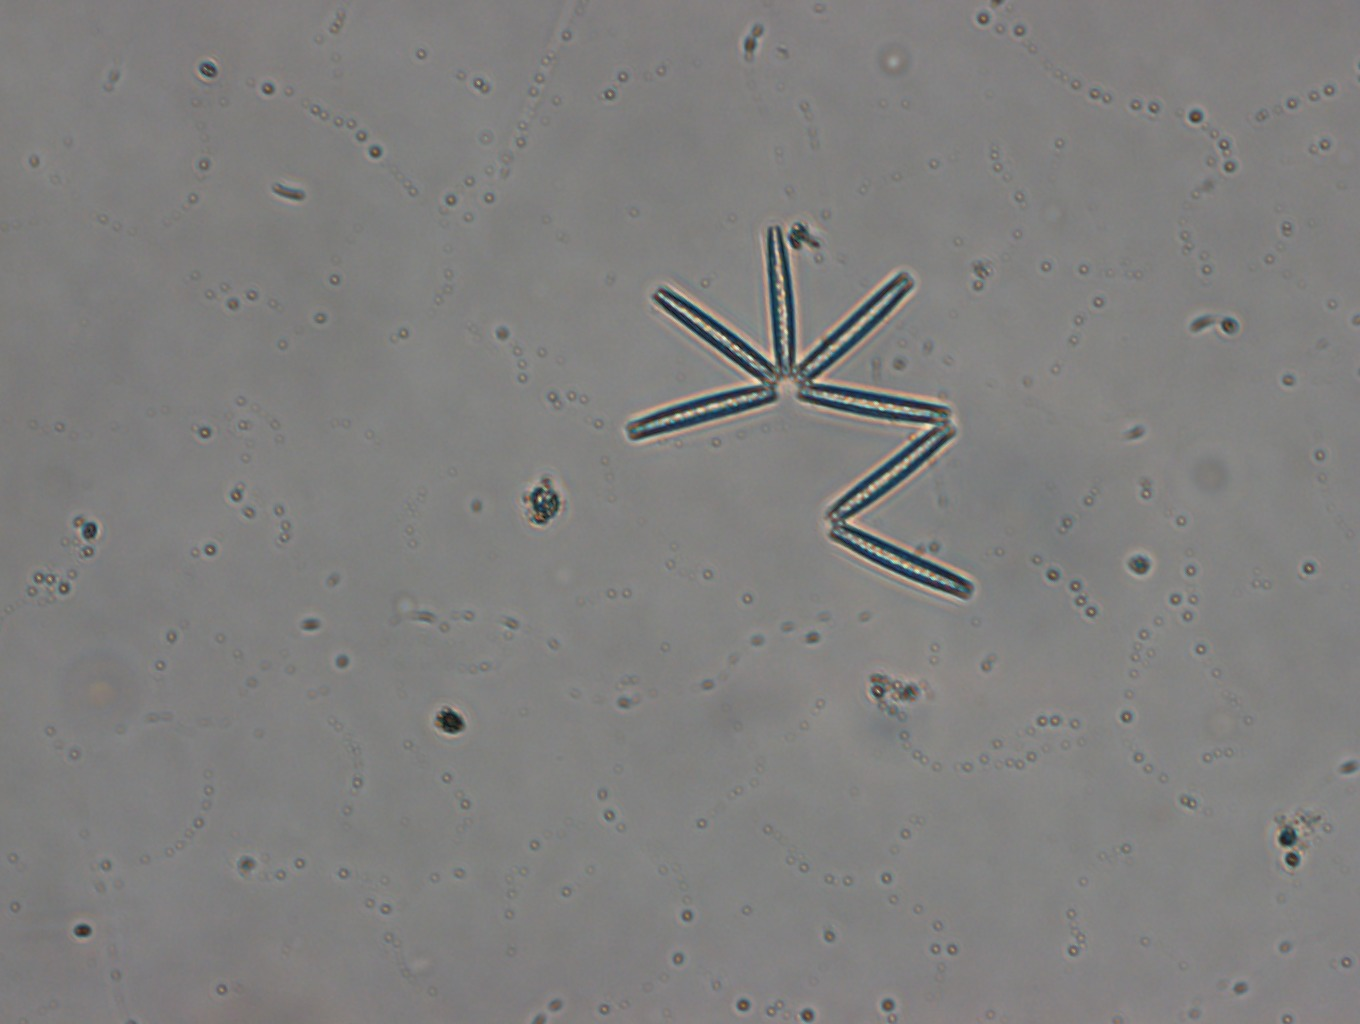thalassionema nitzschioides: (622, 224, 976, 606)
